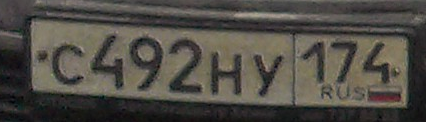character: (92, 34, 128, 95), (168, 36, 204, 95), (131, 34, 164, 93), (51, 41, 88, 88), (210, 49, 246, 96), (253, 50, 286, 99), (328, 38, 359, 85), (362, 37, 391, 87), (303, 39, 327, 86)
